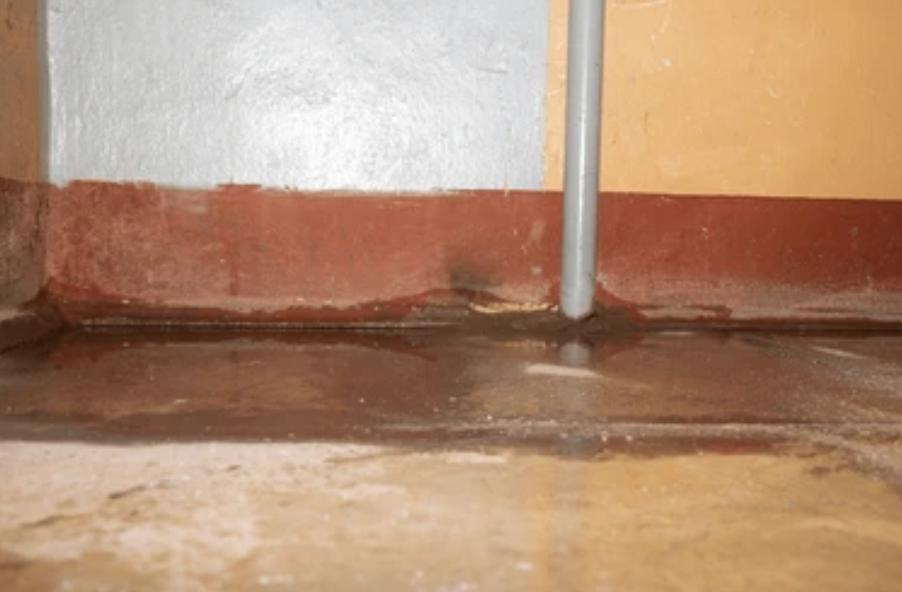water accumulation: (0, 306, 902, 466)
